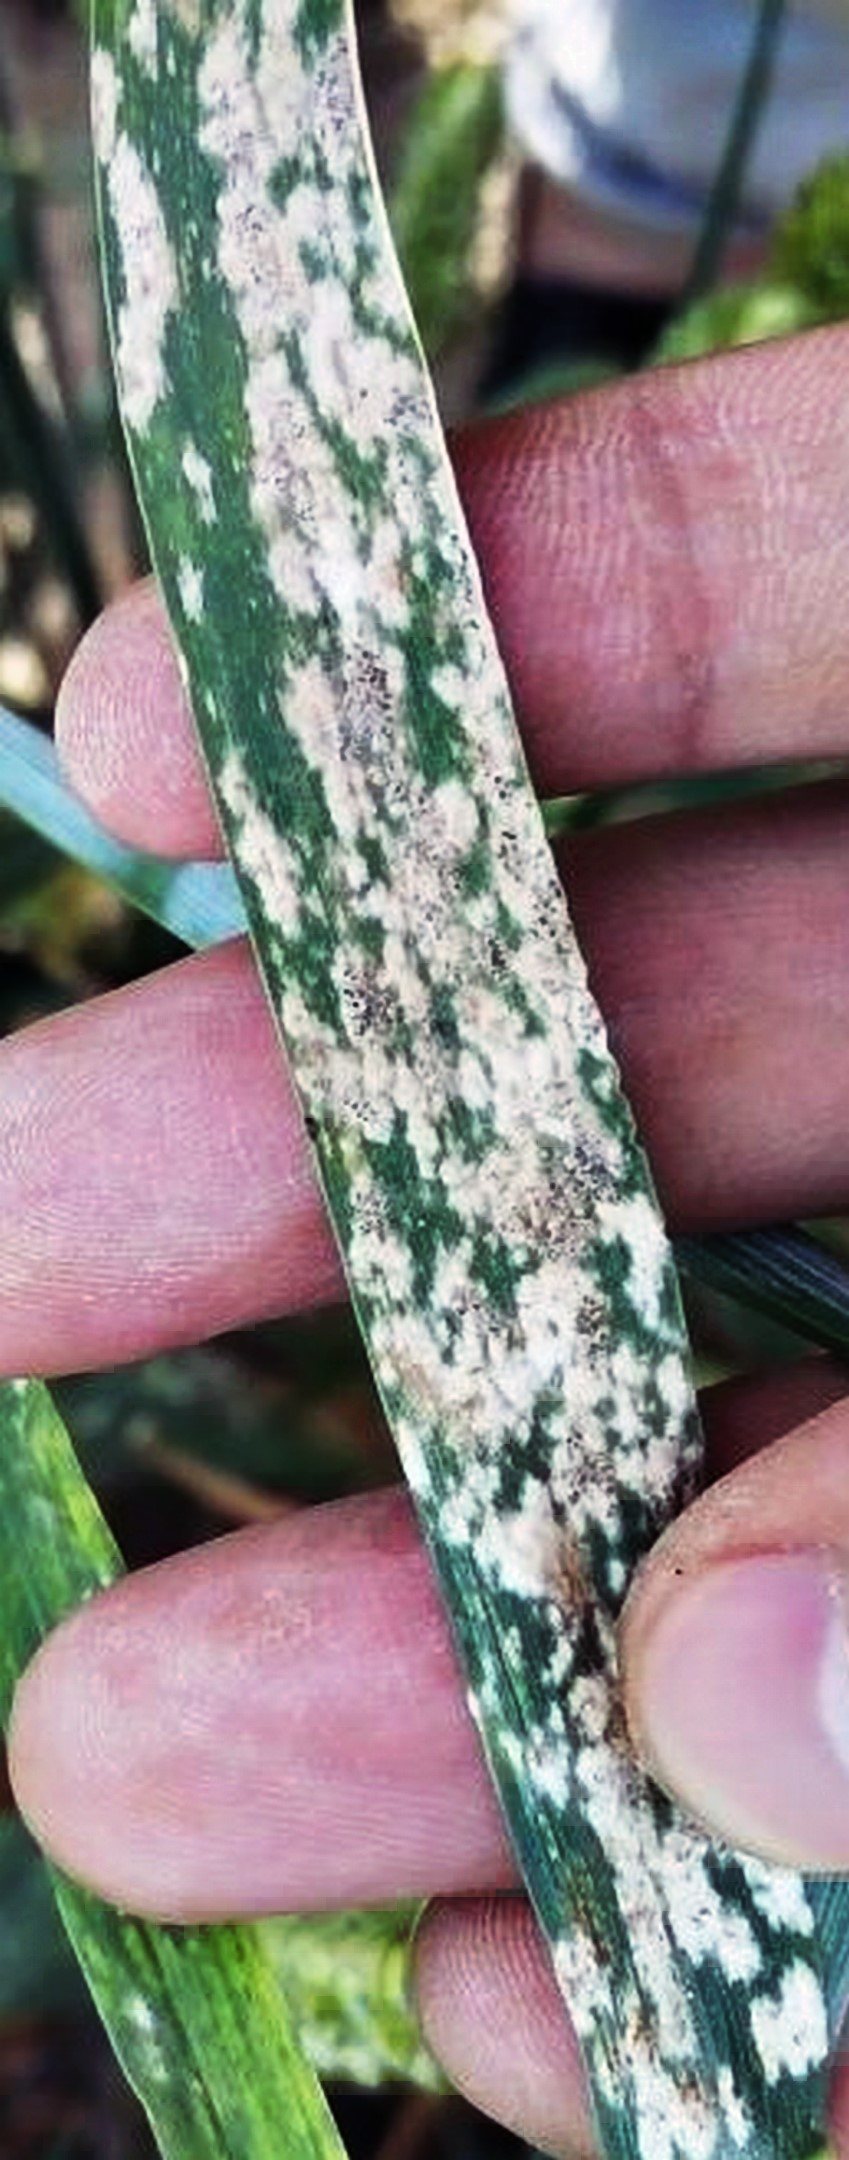Powdery Mildew: (109, 154, 718, 1510)
